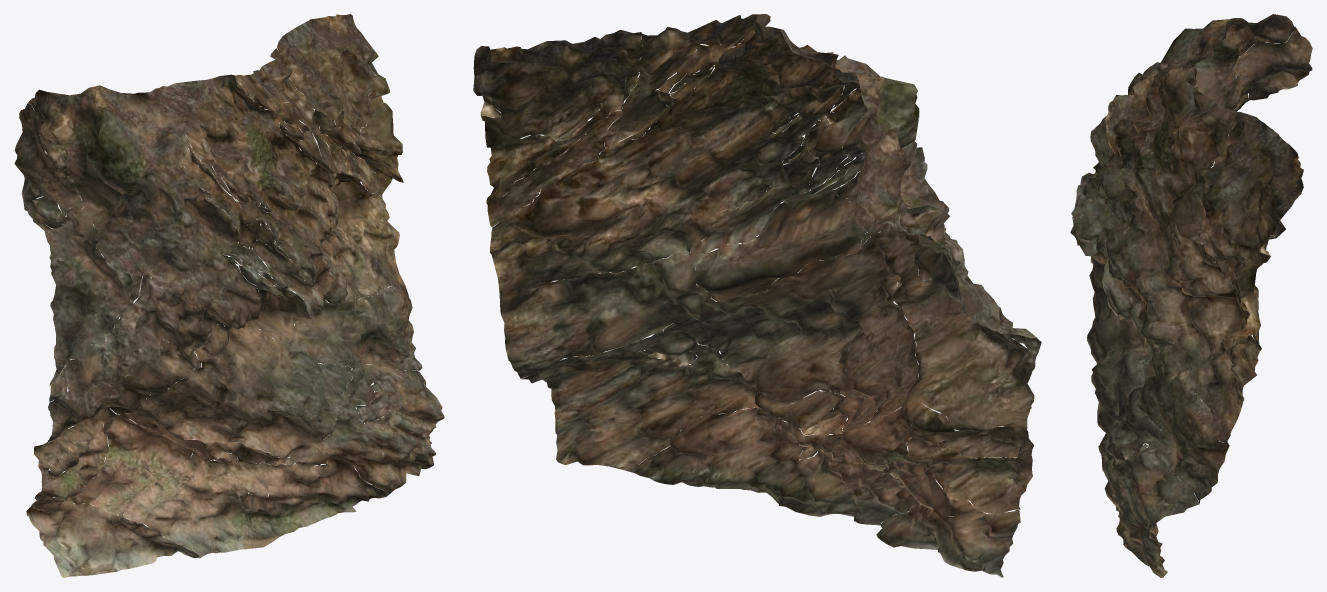
The model's file is mountainside.glb.
3 views of the same model, side by side, from view 1: azimuth 30°, elevation 25°; view 2: azimuth 150°, elevation 25°; view 3: azimuth 270°, elevation 25° (orthographic). The views are drawn at different scales.
Parts seen in each view (by area): view 1: mountainside; view 2: mountainside; view 3: mountainside.
Part boxes in pixels (x1,y1,x2,y2): mountainside: (14,14,444,577); mountainside: (473,14,1041,577); mountainside: (1070,14,1312,577).
Size of the model in its own units: 10.21 by 10.52 by 5.27.
Materials: 1 (1 with a texture image).
